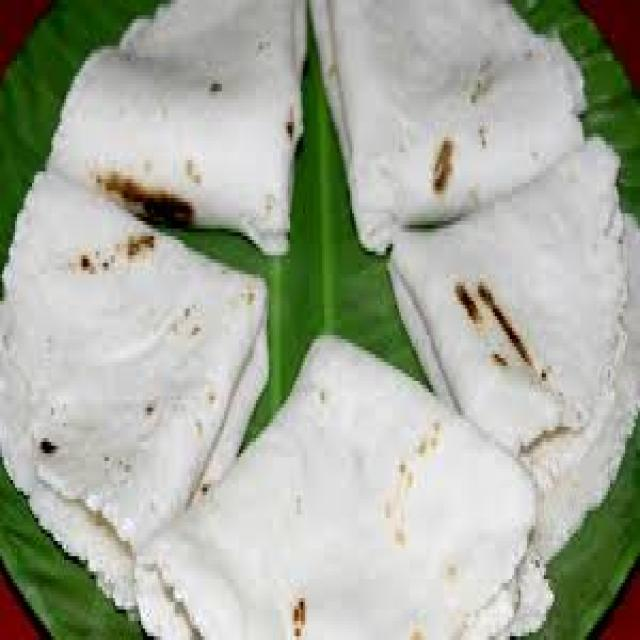RICE BHAKRI: (132, 331, 557, 636), (0, 164, 272, 608), (389, 134, 638, 573), (306, 2, 596, 261), (45, 0, 309, 258)
